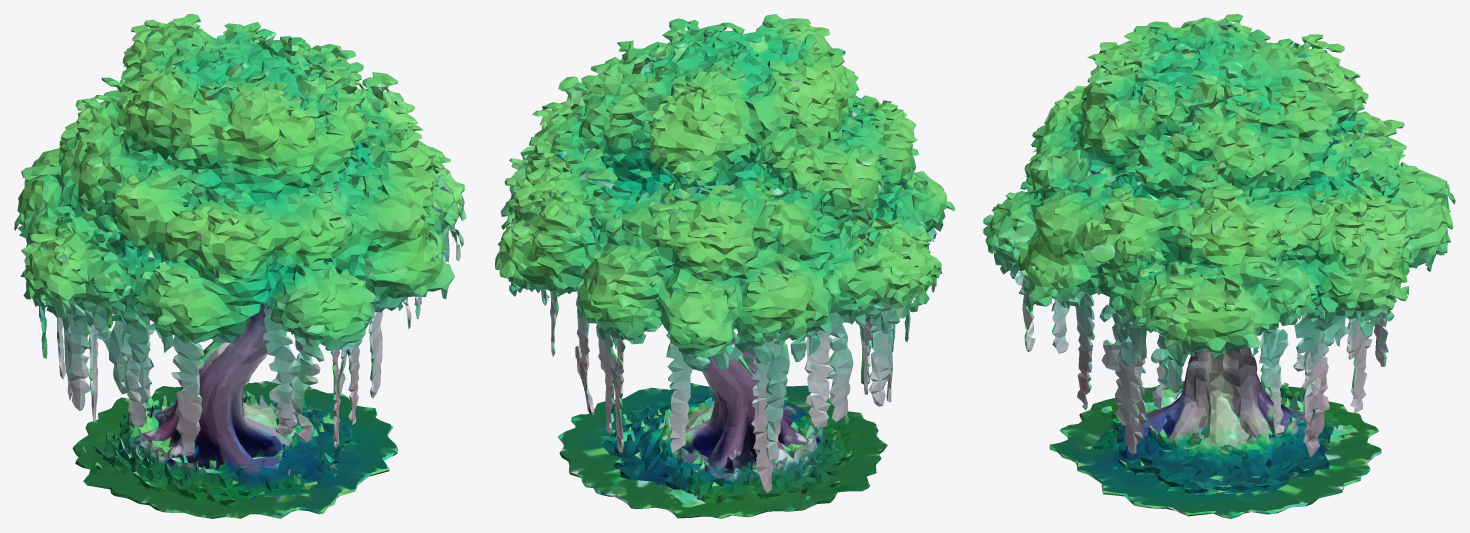
The model's file is tree_weeping_willow_glow.glb.
3 renders of one model, left to right at view 1: azimuth 30°, elevation 25°; view 2: azimuth 150°, elevation 25°; view 3: azimuth 270°, elevation 25°, orthographic.
Parts seen in each view (by area): view 1: tmp05y7wbep.ply; view 2: tmp05y7wbep.ply; view 3: tmp05y7wbep.ply.
Boxes of the visible parts, left/top/right/bottom form: tmp05y7wbep.ply: left=14, top=14, right=466, bottom=518; tmp05y7wbep.ply: left=495, top=14, right=954, bottom=518; tmp05y7wbep.ply: left=983, top=14, right=1455, bottom=518.
Bounding box in the file's own units: 1.99 × 1.86 × 1.97.
1 material, 1 textured.
